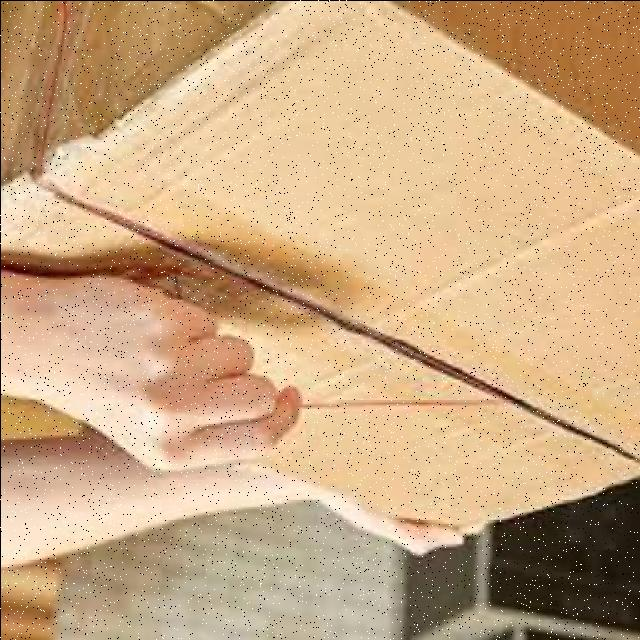normal: (1, 7, 640, 539)
